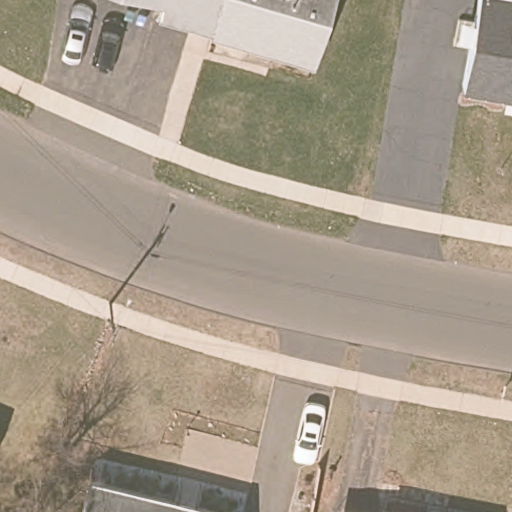DT: (100, 301, 126, 350)
